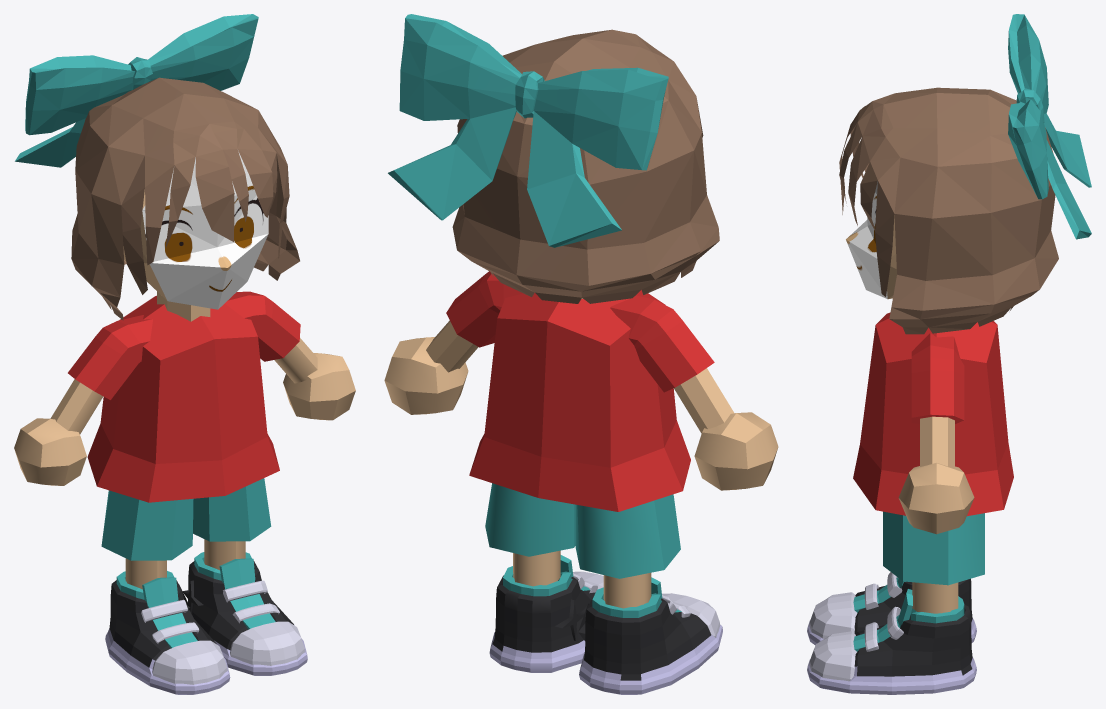
The model's file is Cabello_largo.glb.
3 renders of one model, left to right at view 1: azimuth 30°, elevation 25°; view 2: azimuth 150°, elevation 25°; view 3: azimuth 270°, elevation 25°, orthographic. The views are drawn at different scales.
Visible parts, largest first — view 1: Head_Girl, Torso_Girl, Shoes, Arms, Pants, Neck; view 2: Head_Girl, Torso_Girl, Arms, Shoes, Pants; view 3: Head_Girl, Torso_Girl, Shoes, Arms, Pants.
Part boxes in pixels (<box>): Head_Girl: <box>15,14,299,320</box>; Torso_Girl: <box>87,295,279,502</box>; Shoes: <box>105,552,307,694</box>; Arms: <box>14,291,355,485</box>; Pants: <box>101,478,271,589</box>; Neck: <box>157,291,210,321</box>; Head_Girl: <box>388,14,719,303</box>; Torso_Girl: <box>469,290,690,511</box>; Arms: <box>384,271,778,490</box>; Shoes: <box>489,555,722,694</box>; Pants: <box>485,483,680,608</box>; Head_Girl: <box>839,14,1091,334</box>; Torso_Girl: <box>853,312,1013,516</box>; Shoes: <box>807,572,976,694</box>; Arms: <box>898,333,974,534</box>; Pants: <box>883,511,984,613</box>.
Size of the model in its own units: 3.41 by 5.59 by 2.45.
Materials: 14 (1 with a texture image).
